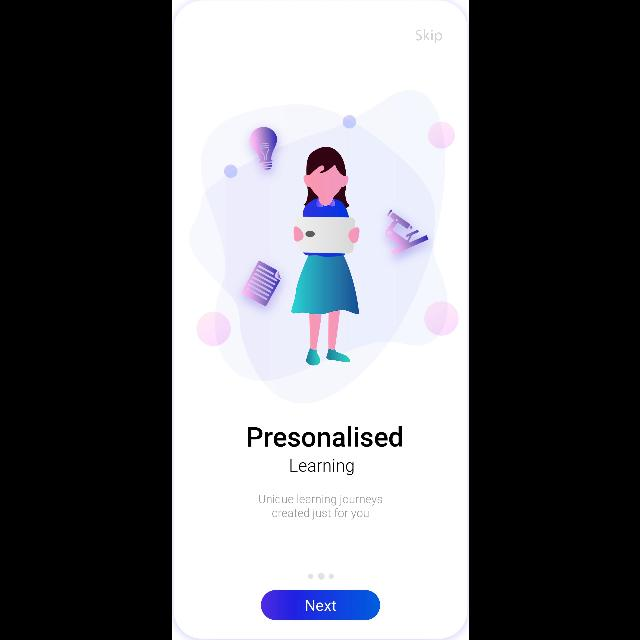image: (189, 90, 457, 404)
pageindicator: (307, 572, 333, 580)
text: (247, 427, 401, 448), (258, 494, 382, 520), (290, 459, 352, 475), (414, 29, 442, 43)
textbutton: (260, 590, 380, 620)
